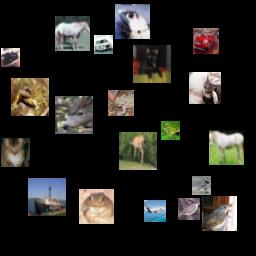airplane: (144, 200, 166, 222)
automobile: (193, 28, 219, 54), (94, 35, 113, 54)
bird: (202, 196, 237, 231), (178, 198, 200, 220), (192, 176, 211, 195)
cat: (133, 45, 171, 83), (189, 72, 221, 104), (1, 138, 30, 167), (1, 48, 20, 67)
deer: (55, 96, 93, 134), (119, 132, 157, 170)
frog: (11, 78, 49, 116), (79, 189, 114, 224), (108, 90, 134, 116), (161, 121, 180, 140)
ship: (28, 178, 66, 216), (115, 4, 150, 39)
